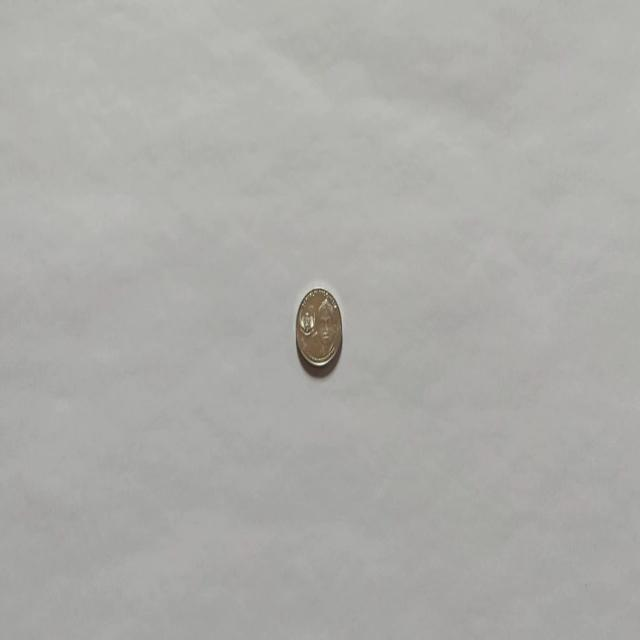dua ratus rupiah: (294, 285, 342, 369)
